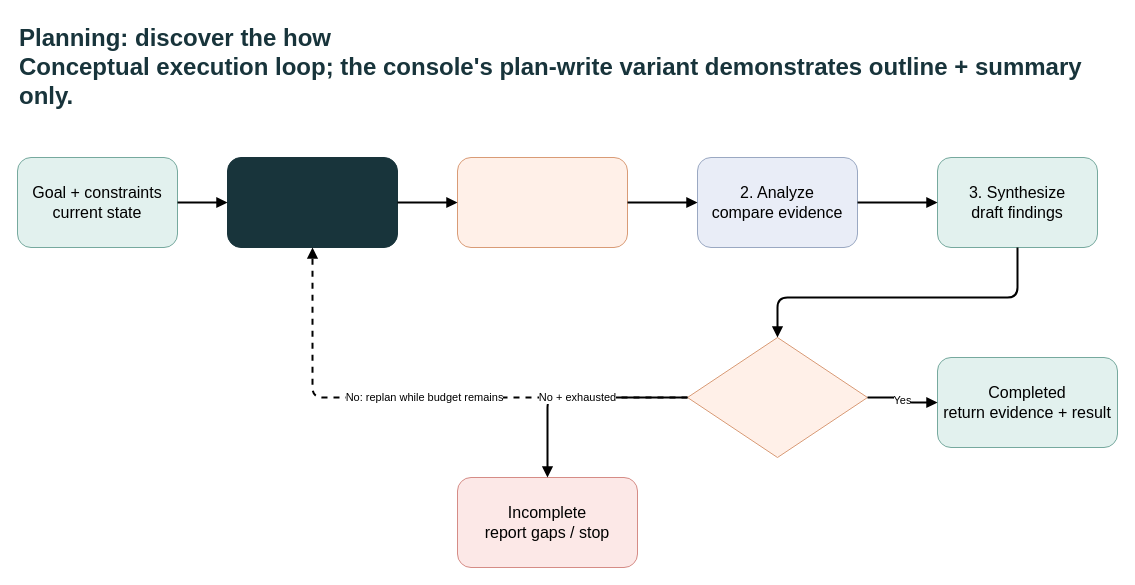
Image size: 1135x585. Some labels were removed from this diagram. The centre of each missing label's shape, as x and y in pixels:
"1. Gather sources / observations" goes at [542,202].
"Goal met? Budget remains?" goes at [777,397].
"Planner bounded ordered steps" goes at [312,202].
